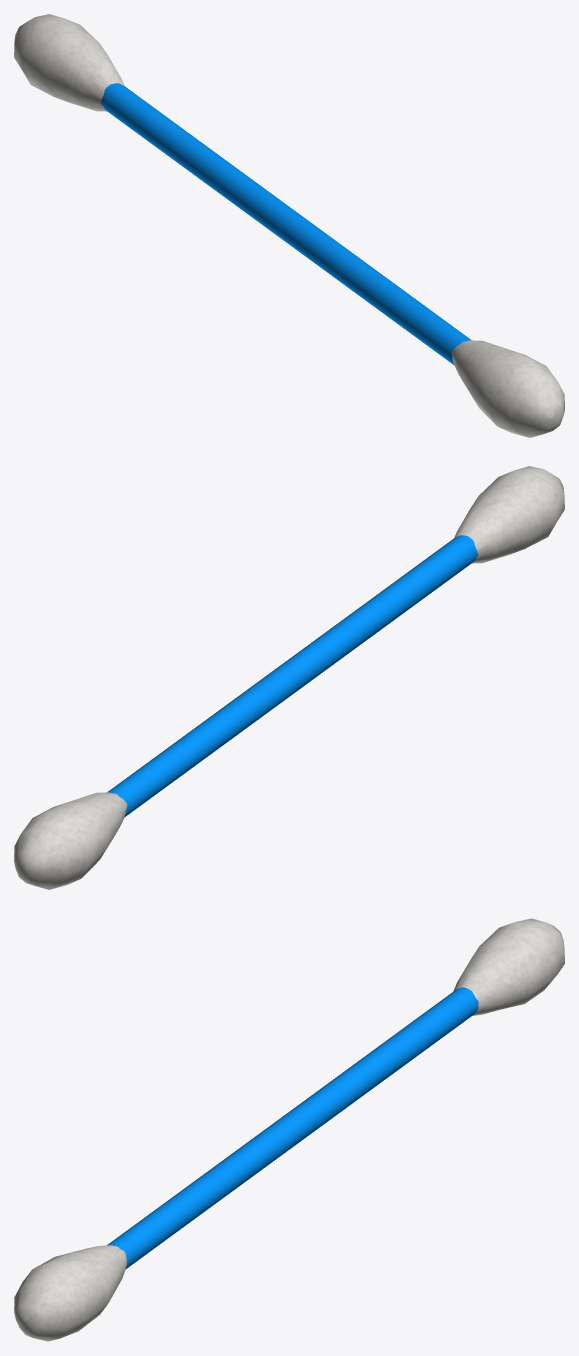
File: Cotton_Swab.fbx
3 views of the same model, one above another, from view 1: azimuth 30°, elevation 25°; view 2: azimuth 150°, elevation 25°; view 3: azimuth 330°, elevation 25° (orthographic).
Parts seen in each view (by area): view 1: Cotton_Swab; view 2: Cotton_Swab; view 3: Cotton_Swab.
Boxes of the visible parts, box(x1,y1,x2,y2) form: Cotton_Swab: box(14, 14, 564, 437); Cotton_Swab: box(14, 466, 564, 889); Cotton_Swab: box(14, 918, 564, 1341).
Bounding box in the file's own units: 0.5542 × 0.5544 × 7.67.
Materials: 1 (1 with a texture image).
